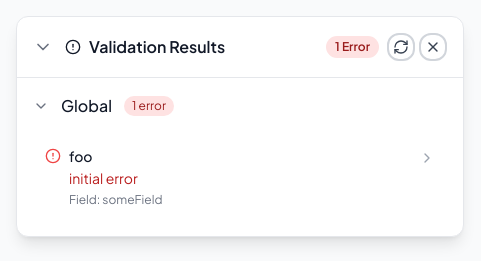
Test case: ValidationPanel — auto-expand on 0 → positive transition › does NOT re-expand after a manual collapse when count changes positive → positive
The image size is (481, 261).
Expected: the text "initial error" is shown, [69,169,138,187]
Step 1. Click the button titled "Close panel" → point(433, 47), box [419,33,447,61]
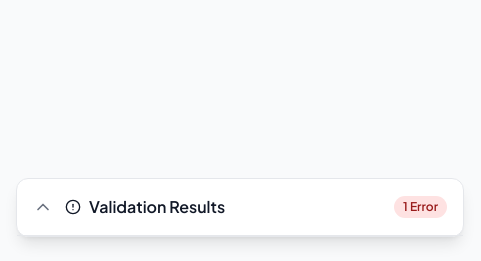
Expected: the button "initial error" is gone
